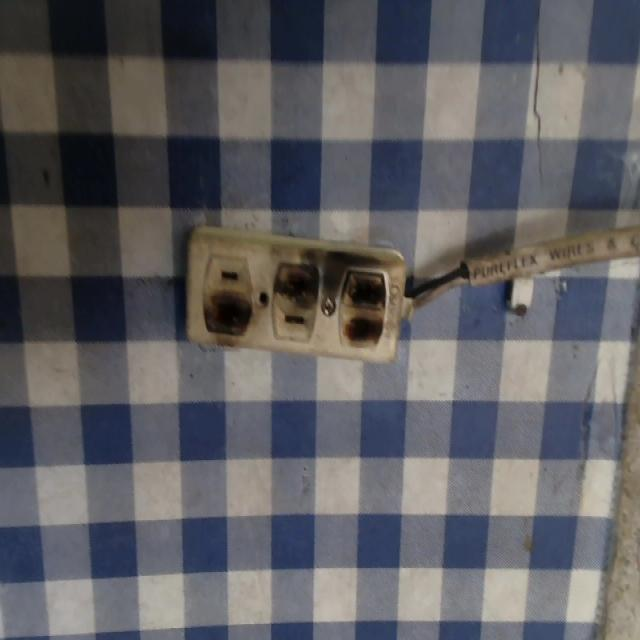-: (336, 249, 395, 368), (262, 244, 327, 304), (199, 287, 257, 344)
